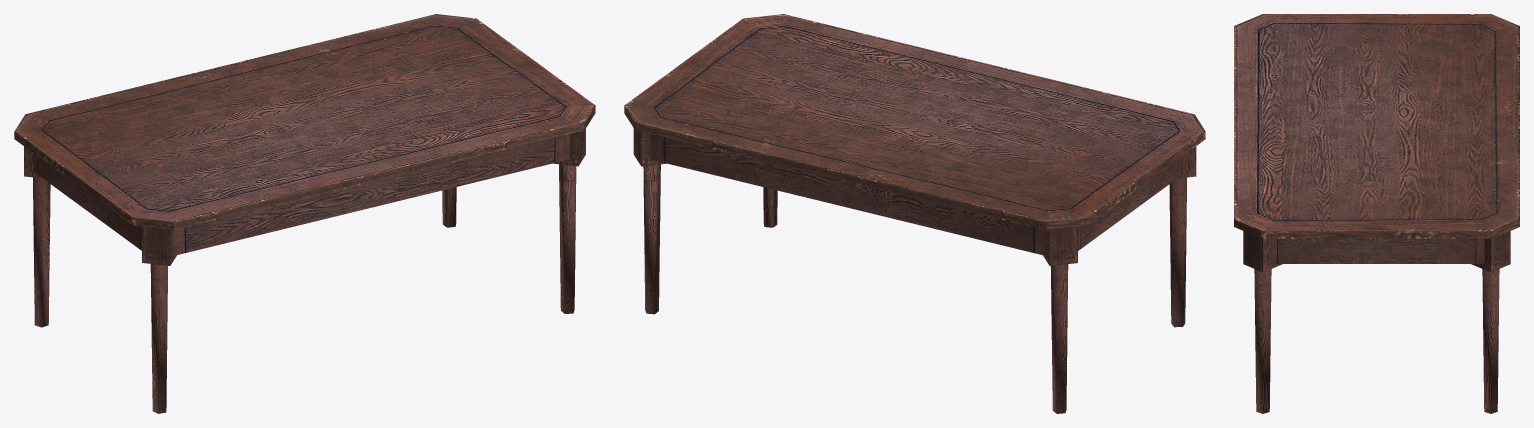
The model's file is Prop_Zz01.glb.
The picture shows the model from 3 angles, left to right: view 1: azimuth 30°, elevation 25°; view 2: azimuth 150°, elevation 25°; view 3: azimuth 270°, elevation 25°; orthographic projection. The views are drawn at different scales.
Visible parts, largest first — view 1: xiutz_zz_01; view 2: xiutz_zz_01; view 3: xiutz_zz_01.
Boxes of the visible parts, x1,y1,x2,y2 form: xiutz_zz_01: (14, 14, 595, 413); xiutz_zz_01: (624, 14, 1205, 413); xiutz_zz_01: (1234, 14, 1519, 413).
Bounding box in the file's own units: 3.63 × 1.5 × 2.02.
Materials: 1 (1 with a texture image).
